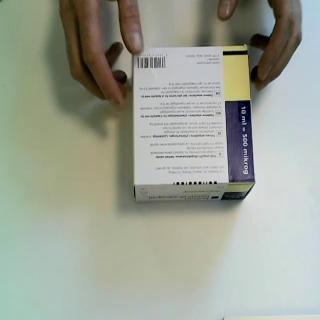fentanyl50ug_ml: (131, 44, 257, 202)
